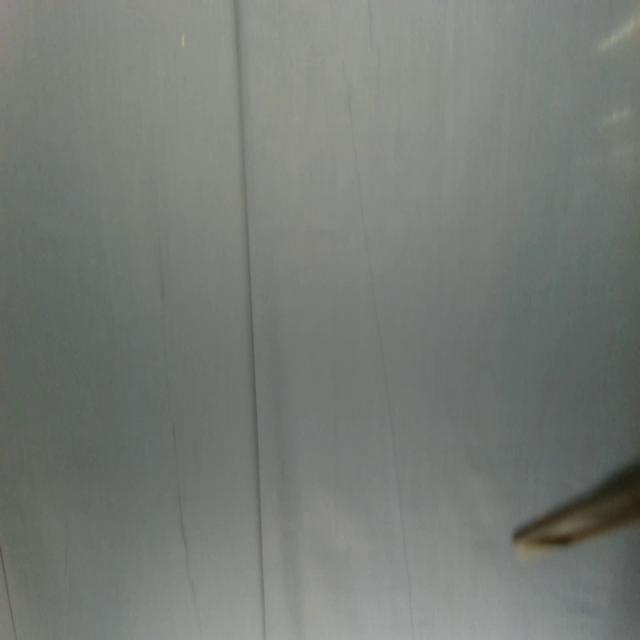crease: (340, 57, 413, 640), (232, 0, 270, 640), (157, 237, 203, 638), (0, 543, 20, 640), (367, 0, 383, 93)
hole: (181, 32, 186, 50)
